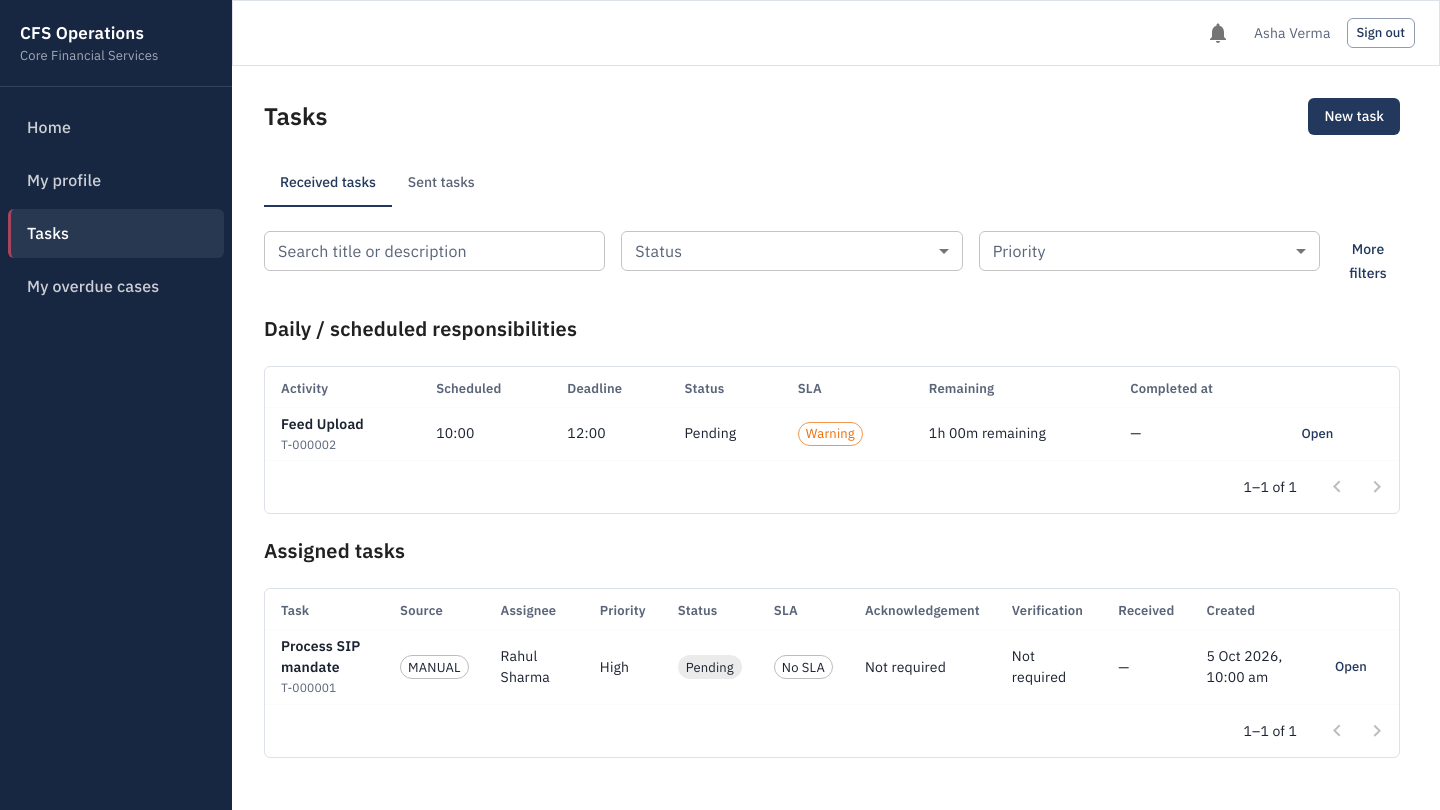
it: Tasks page › shows received tasks by default and separates sent tasks
The width and height of the screenshot is (1440, 810).
Expected: the text "Process SIP mandate" is shown, [281,636,368,678]
Expected: the text "Feed Upload" is shown, [281,414,364,432]
Click the tab "Sent tasks" at (441, 182), box [392,158,491,206]
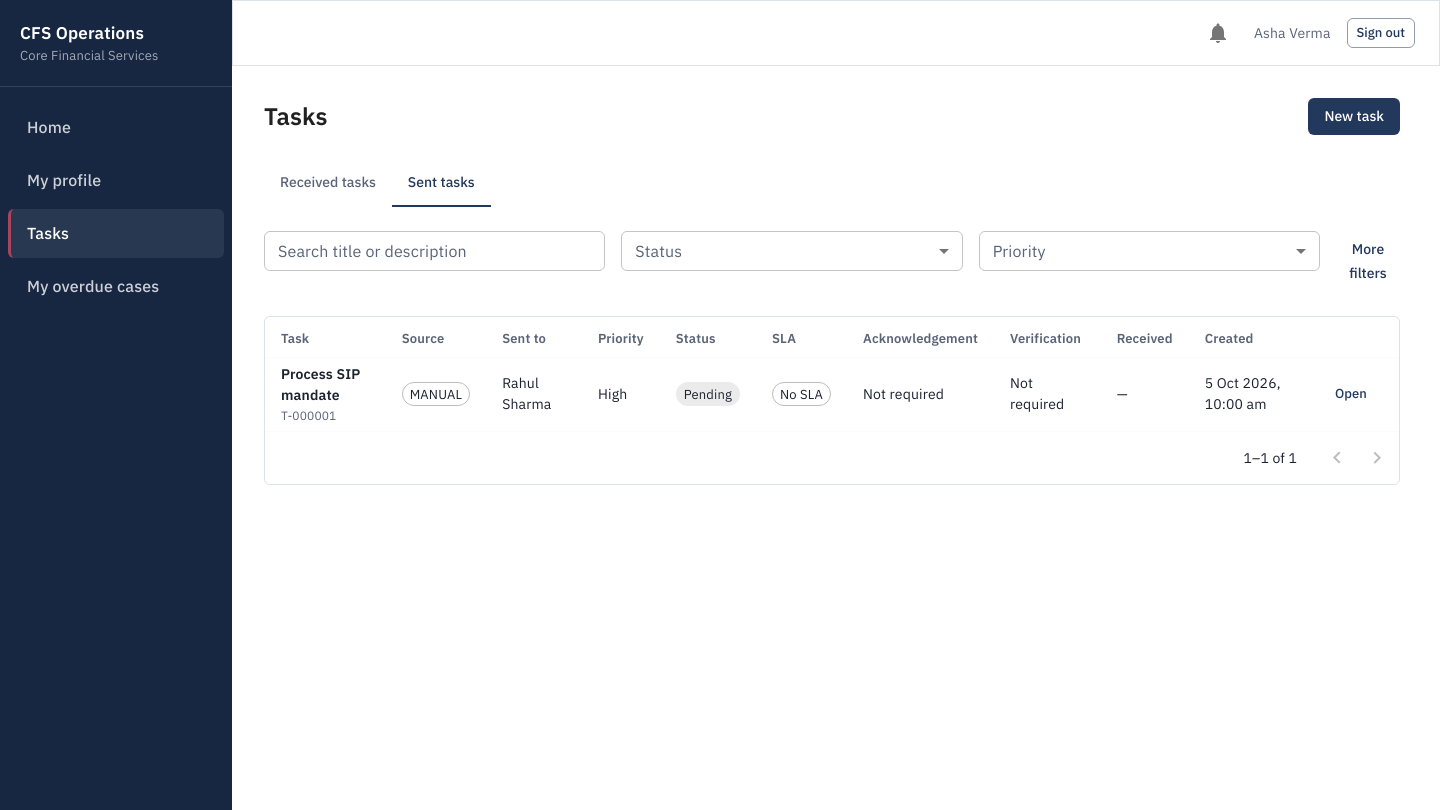
Result: the column heading "Sent to" is shown at [486,320,582,357]
